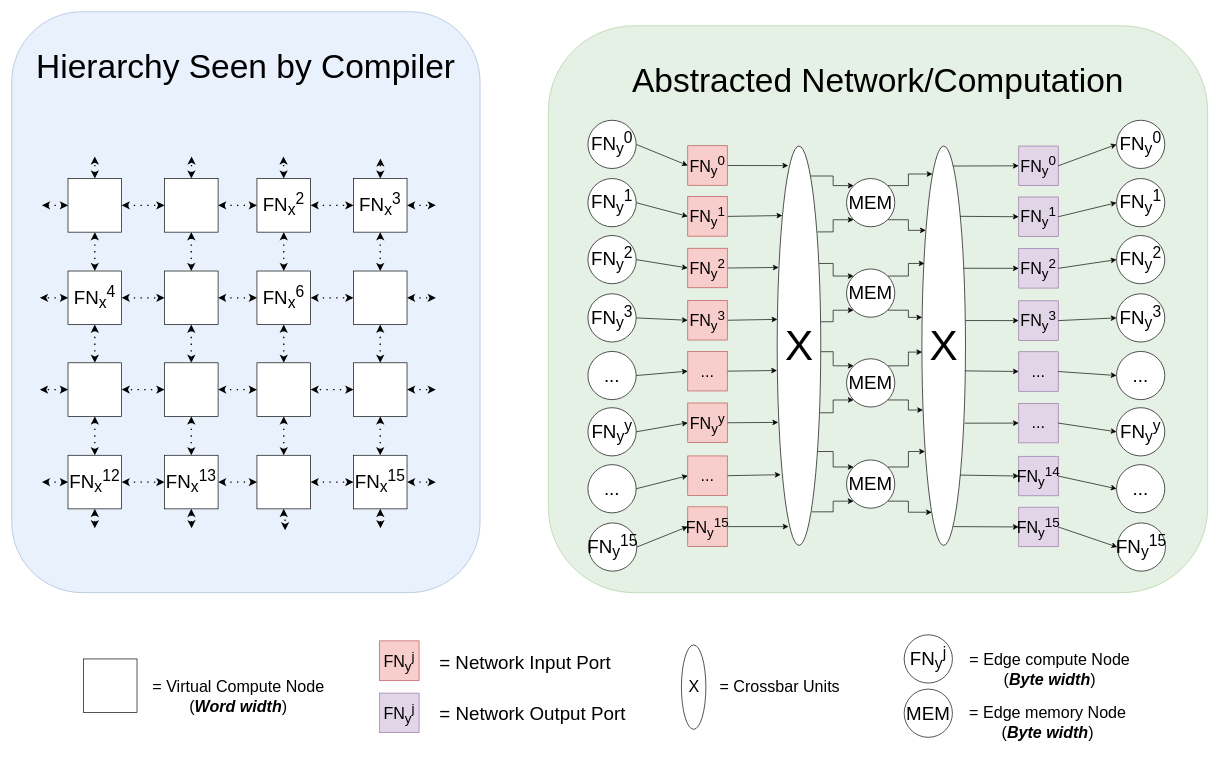
Image size: 1219x758. Some labels were removed from this diagram. Here are the shapes that lost their labels. From the top down, the centre of each, then its label:
(94,205): FN x 0
(191,205): FN x 1
(191,297): FN x 5
(380,297): FN x 7
(94,389): FN x 8
(191,389): FN x 9
(283,389): FN x 10
(380,389): FN x 11
(283,482): FN x 14
(110,685): FN x i
